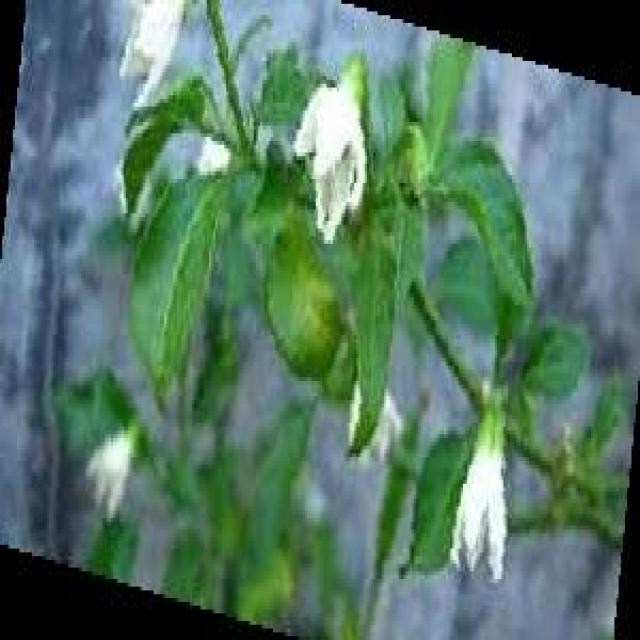Mosaic_virus: (297, 50, 393, 247)
